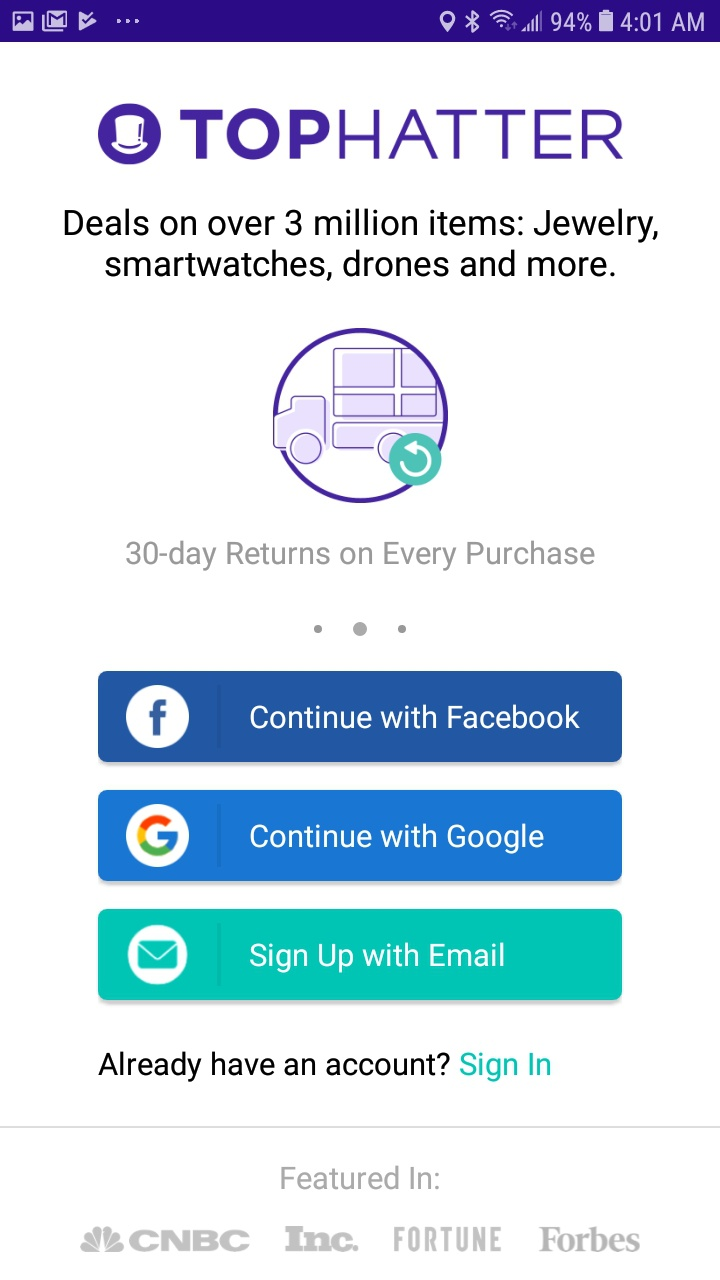Image: (98, 103, 624, 167), (273, 328, 449, 504), (80, 1226, 125, 1253)
PageIndicator: (314, 621, 407, 637)
Text: (64, 208, 659, 283), (126, 539, 596, 572), (98, 1050, 551, 1083), (281, 1164, 440, 1190), (394, 1225, 502, 1252), (538, 1224, 639, 1252), (129, 1229, 251, 1252), (285, 1225, 359, 1252)
TextButton: (99, 909, 623, 1001), (99, 790, 623, 882), (99, 671, 623, 763)
UpperTaskBar: (1, 1, 720, 43)
